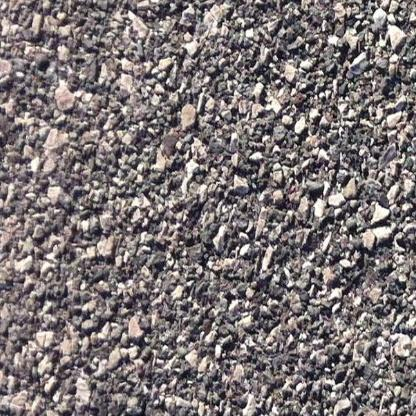Cracks: (63, 402, 235, 416)
